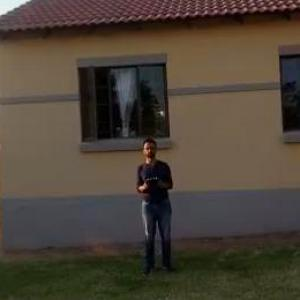follow: (133, 132, 180, 282)
